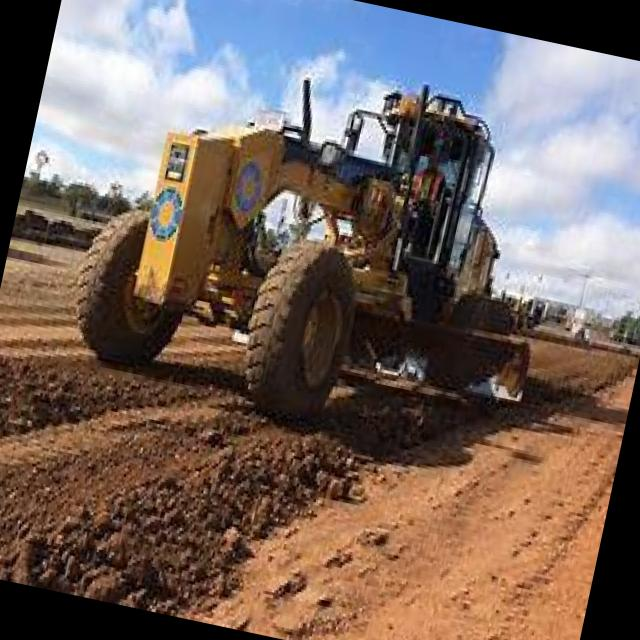Grader: (60, 3, 596, 490)
